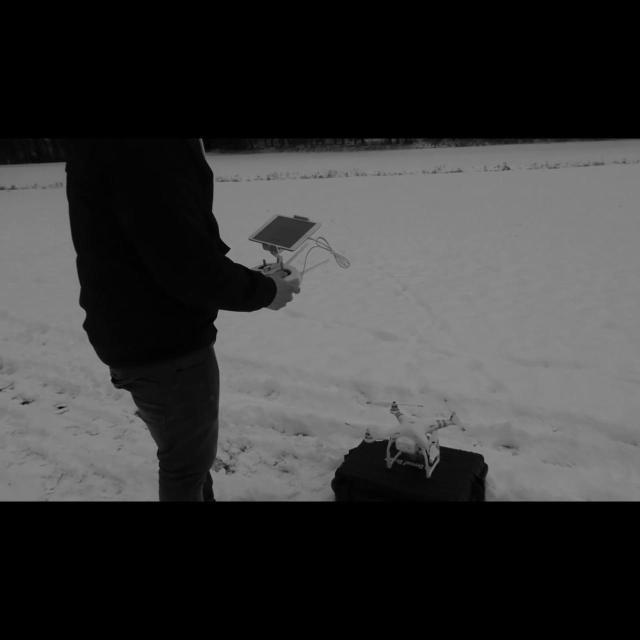Drons: (338, 377, 477, 486)
